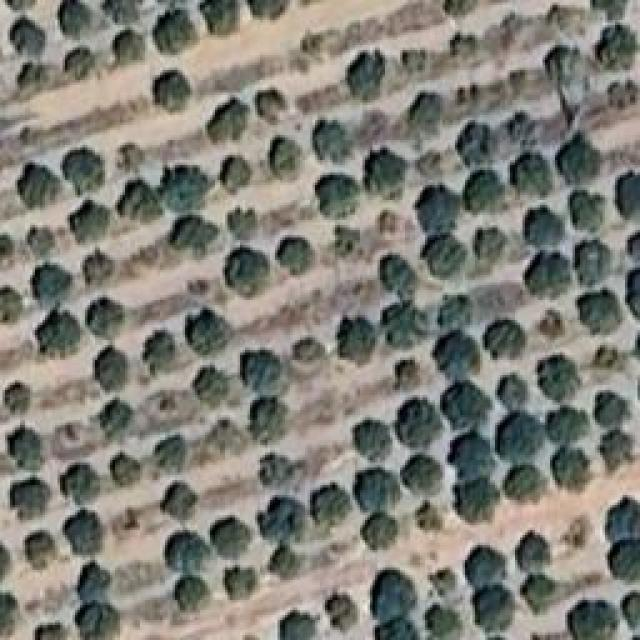Tree: (550, 128, 607, 188), (525, 250, 583, 307), (557, 595, 623, 640), (434, 333, 494, 380), (65, 143, 119, 195), (570, 238, 626, 288), (143, 328, 196, 380), (518, 203, 572, 254), (380, 300, 430, 354), (453, 428, 500, 485), (405, 93, 455, 145), (563, 185, 613, 237), (30, 260, 79, 313), (443, 380, 491, 432), (120, 180, 168, 231), (395, 400, 443, 451), (450, 483, 502, 530), (63, 508, 114, 555), (450, 118, 492, 175), (368, 145, 414, 197), (345, 50, 391, 101), (578, 288, 623, 340), (335, 313, 383, 361), (538, 355, 584, 405), (150, 8, 194, 58), (80, 555, 122, 607), (473, 583, 520, 629), (260, 498, 307, 544), (373, 570, 421, 615), (320, 173, 369, 217), (228, 245, 272, 294), (500, 415, 544, 464), (243, 347, 292, 391), (495, 463, 543, 507), (198, 365, 242, 413), (350, 418, 396, 463), (250, 400, 295, 446), (483, 315, 527, 362), (405, 453, 449, 500), (493, 370, 538, 415), (307, 483, 351, 529), (157, 165, 200, 212), (187, 305, 230, 352), (380, 255, 429, 296), (595, 430, 635, 480), (350, 472, 397, 514), (413, 185, 457, 229), (85, 300, 129, 344), (550, 45, 594, 89), (512, 153, 555, 198), (197, 0, 240, 44), (18, 527, 62, 570), (470, 223, 512, 268), (545, 0, 591, 41), (470, 163, 506, 215), (430, 292, 479, 330), (275, 232, 319, 274), (35, 312, 79, 354), (8, 420, 52, 462), (20, 158, 61, 203), (160, 475, 203, 517), (322, 590, 363, 634), (420, 230, 462, 272), (545, 405, 586, 448), (206, 98, 246, 142), (330, 222, 369, 267), (78, 603, 125, 640), (8, 15, 52, 53), (607, 540, 640, 590), (12, 57, 52, 98), (225, 200, 264, 242), (218, 150, 252, 198), (58, 0, 103, 36), (72, 250, 111, 291), (97, 400, 135, 442), (610, 170, 640, 223), (425, 605, 470, 640), (73, 205, 107, 251), (314, 120, 354, 159), (357, 512, 397, 551), (112, 30, 153, 68), (63, 462, 100, 504), (585, 28, 628, 64), (252, 88, 292, 126), (108, 453, 146, 493), (553, 447, 590, 488), (607, 500, 640, 545), (270, 142, 309, 180), (260, 450, 299, 488), (167, 533, 206, 570), (150, 438, 195, 470), (7, 475, 47, 511), (465, 550, 506, 584), (176, 216, 216, 250), (275, 607, 316, 639), (0, 283, 29, 328), (65, 45, 100, 82), (293, 333, 328, 370), (395, 44, 433, 78), (212, 520, 250, 554), (153, 67, 186, 106), (100, 353, 134, 390), (240, 0, 289, 25), (607, 75, 640, 112), (175, 575, 217, 604), (523, 530, 551, 571), (102, 0, 146, 26), (270, 545, 303, 579), (593, 395, 626, 428), (25, 223, 54, 260), (0, 592, 22, 639), (505, 113, 543, 140), (448, 33, 477, 67), (395, 356, 425, 388), (225, 568, 257, 598), (538, 308, 568, 339), (375, 620, 421, 640), (415, 508, 445, 538), (598, 343, 627, 374), (620, 270, 640, 314), (528, 573, 558, 601), (592, 0, 630, 21), (5, 385, 32, 414), (622, 225, 640, 268), (30, 620, 63, 639), (443, 0, 471, 22), (623, 593, 640, 627), (0, 230, 14, 263)
